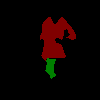fuseaux: (45, 58, 56, 78)
maglia: (39, 16, 76, 60)
